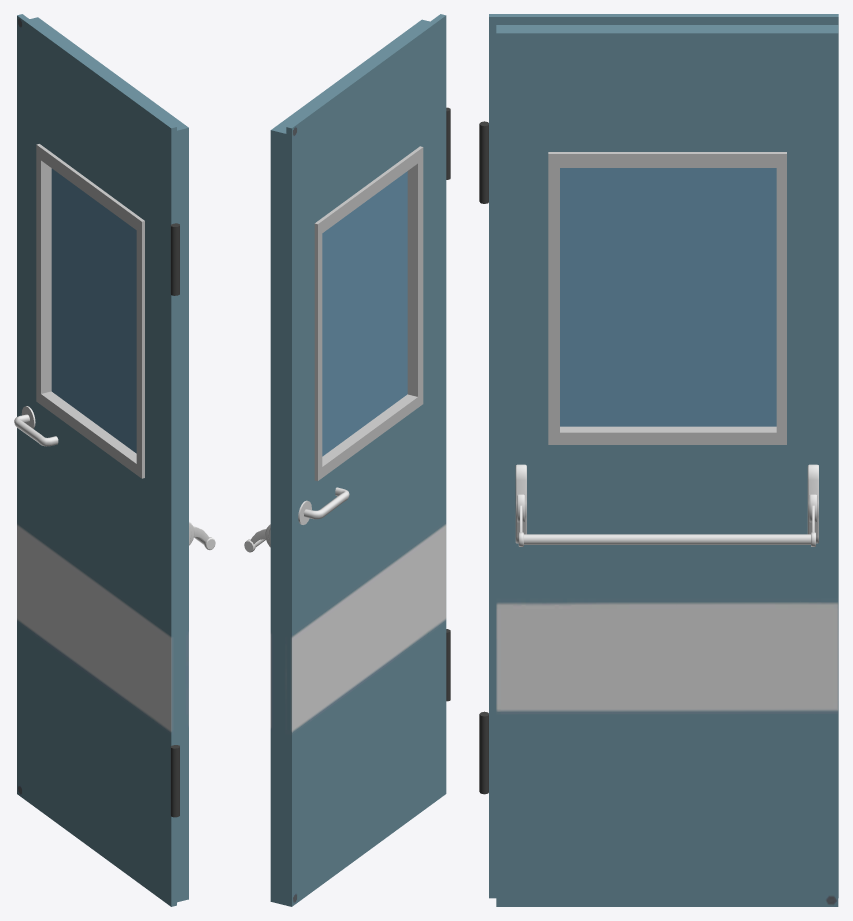
Rendered from SM_WideDoor.glb.
3 views of the same model, side by side, from view 1: azimuth 30°, elevation 25°; view 2: azimuth 150°, elevation 25°; view 3: azimuth 270°, elevation 25° (orthographic). The views are drawn at different scales.
Parts seen in each view (by area): view 1: SM_WideDoor; view 2: SM_WideDoor; view 3: SM_WideDoor.
Boxes of the visible parts, x1=… form: SM_WideDoor: x1=14, y1=14, x2=215, y2=906; SM_WideDoor: x1=244, y1=14, x2=450, y2=906; SM_WideDoor: x1=479, y1=14, x2=838, y2=906.
Bounding box in the file's own units: 0.2399 × 2.38 × 0.8802.
1 material, 1 textured.
